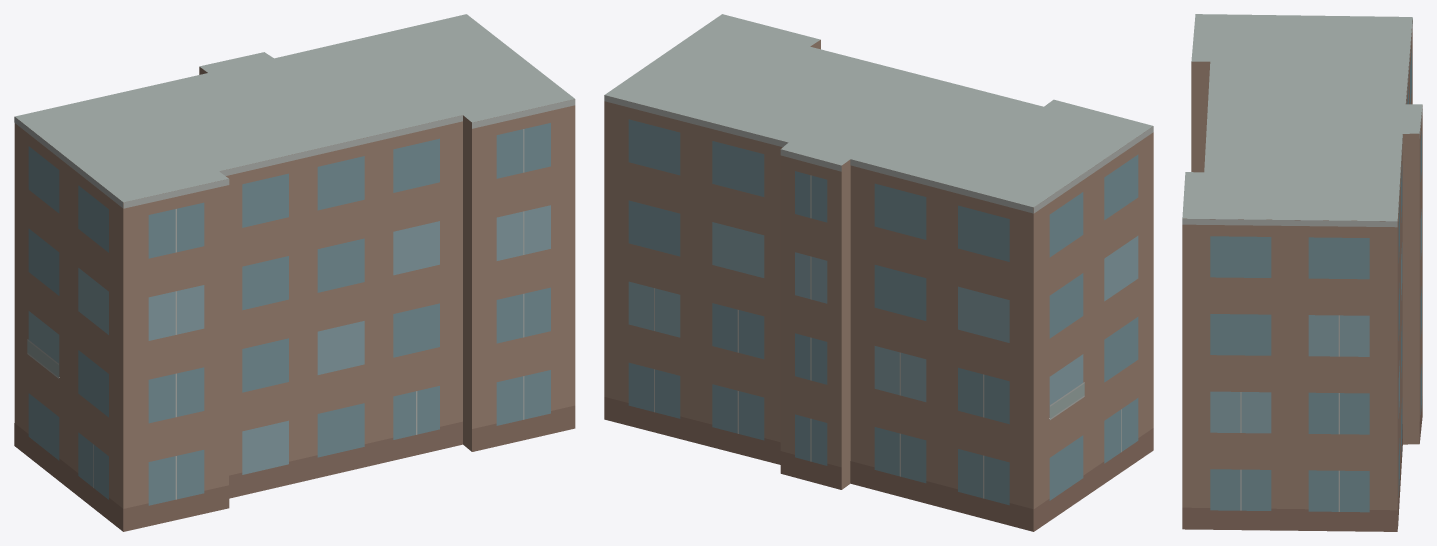
Rendered from survey-upis-32624268.glb.
3 views of the same model, side by side, from view 1: azimuth 30°, elevation 25°; view 2: azimuth 150°, elevation 25°; view 3: azimuth 270°, elevation 25° (orthographic). The views are drawn at different scales.
Parts seen in each view (by area): view 1: survey-upis-32624268.tmp; view 2: survey-upis-32624268.tmp; view 3: survey-upis-32624268.tmp.
Boxes of the visible parts, x1,y1,x2,y2 form: survey-upis-32624268.tmp: (14,14,575,531); survey-upis-32624268.tmp: (604,14,1153,531); survey-upis-32624268.tmp: (1182,14,1422,531).
Bounding box in the file's own units: 18.33 × 12.8 × 8.98.
